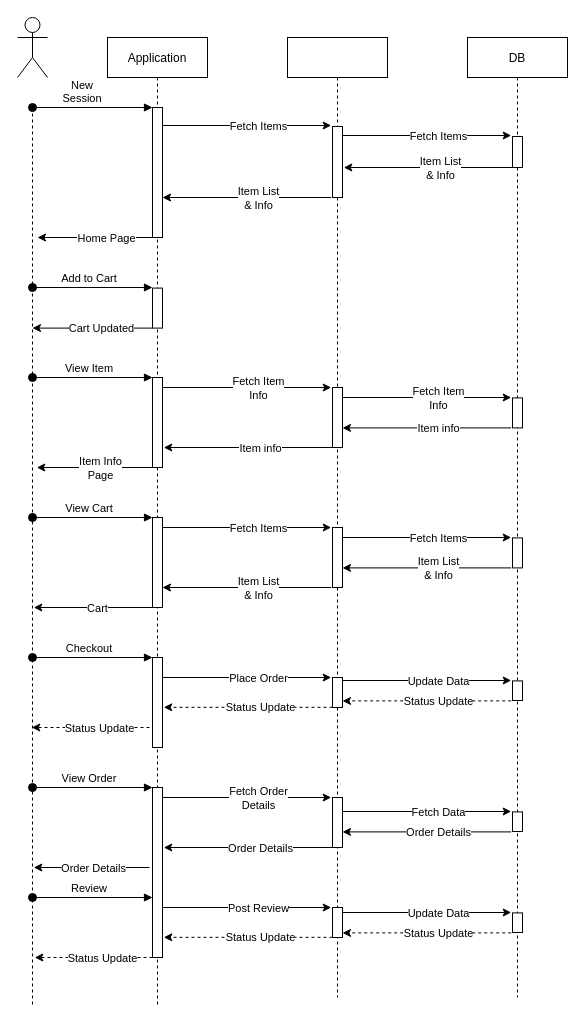
This 585x1025 diagram has some shape labels left out. Each missing label, with the centre of its shape:
"Server" goes at pixel 337 517.
"User" goes at pixel 32 47.
